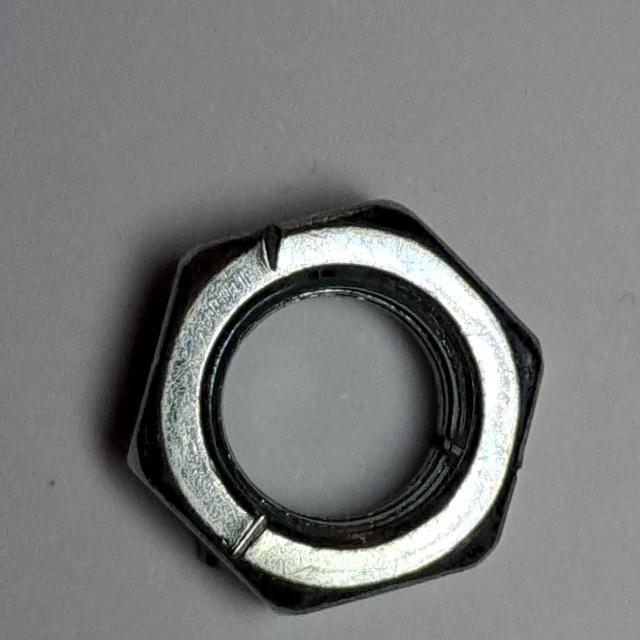Scratches: (102, 188, 556, 632)
